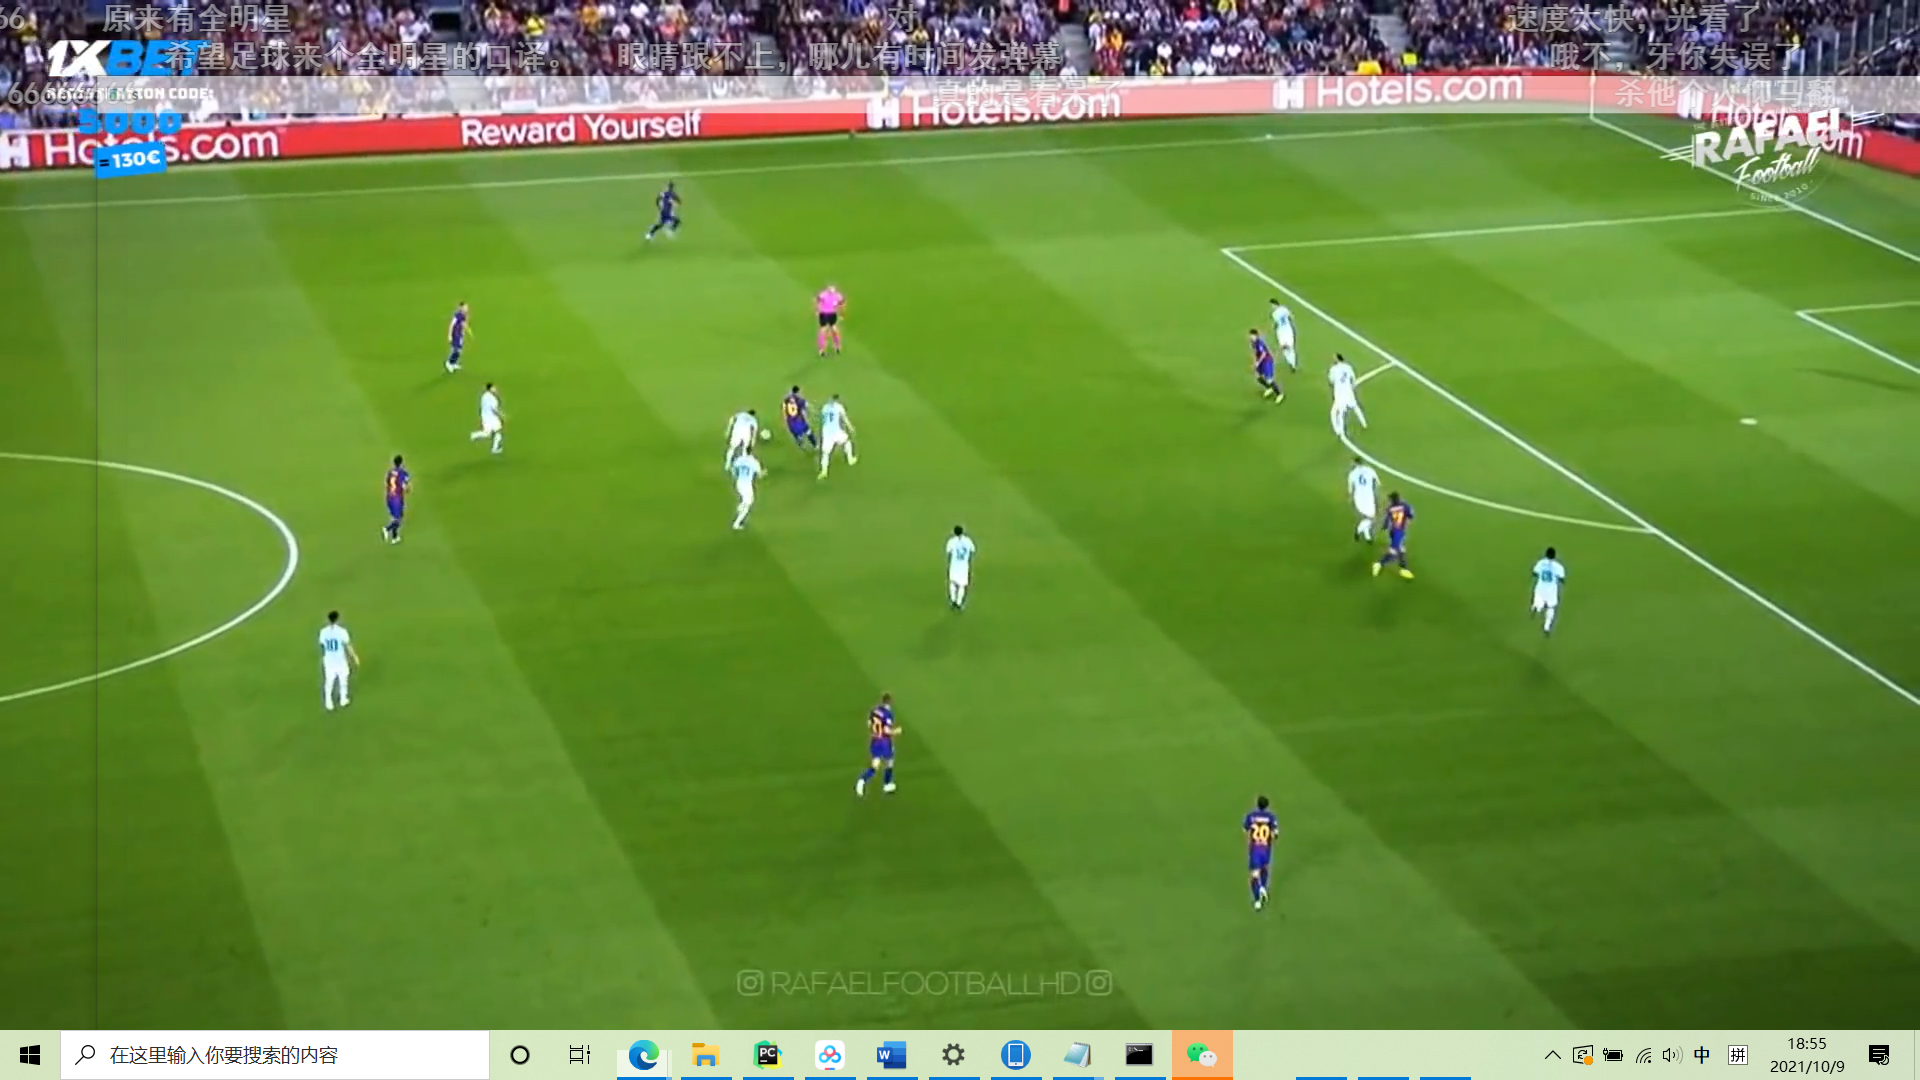ft: (760, 429, 771, 443)
